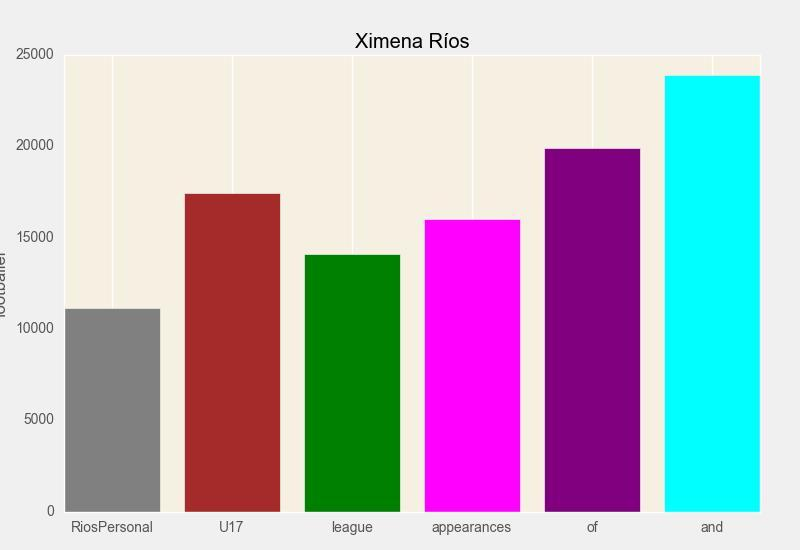axis: (0, 49, 54, 518)
rectangle: (664, 74, 760, 511), (544, 148, 640, 511), (184, 193, 280, 511), (424, 220, 520, 511), (304, 255, 400, 512), (64, 308, 160, 511)
